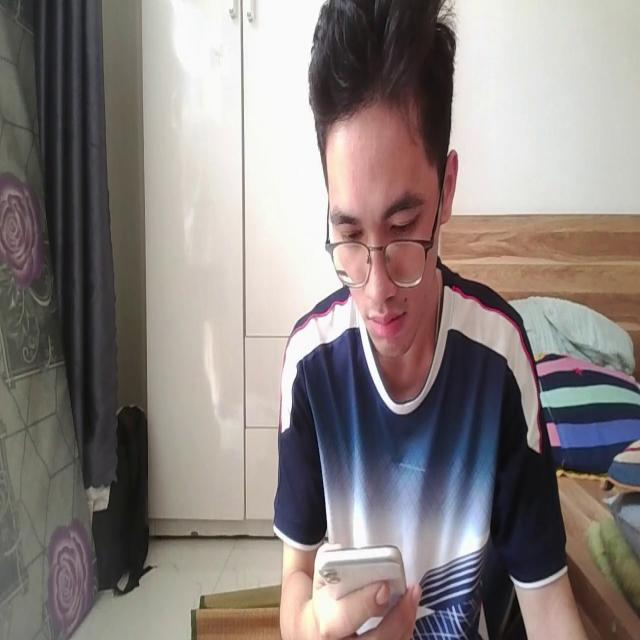phone: (314, 536, 412, 620)
student: (274, 0, 588, 640)
